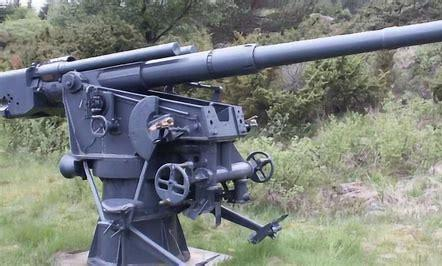MIL_SPG: (0, 21, 442, 265)
